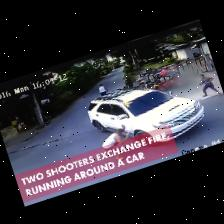person: (103, 125, 129, 150), (200, 74, 220, 96), (12, 118, 20, 132), (99, 85, 108, 95)
